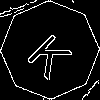K: (25, 25, 81, 81)
